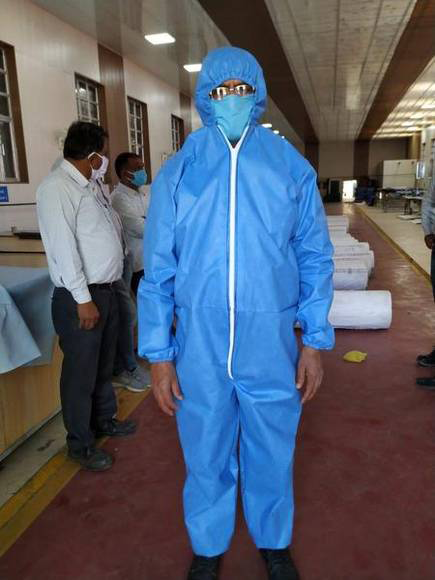Coverall: (137, 49, 333, 550)
with_mask: (211, 90, 255, 143), (88, 153, 108, 181), (129, 166, 150, 192)
